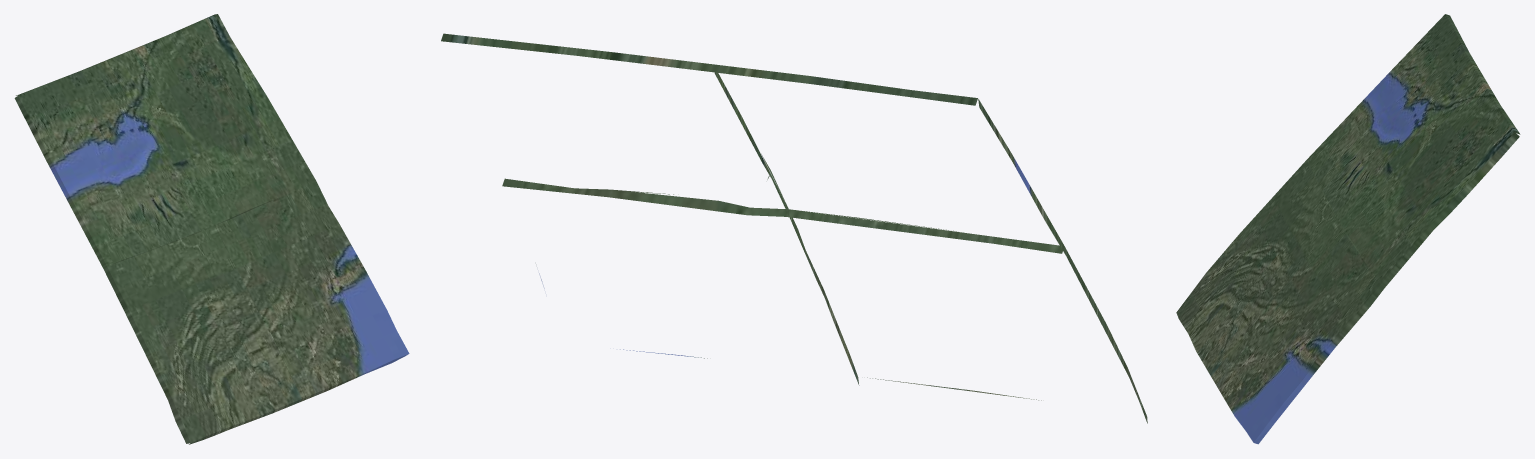
File: AJVsH2zHta3y8WaoxCachIuisGfSNEjpccxxy1GRXxEwZ74pOmB0I_w_3cZ7uk648vfD6qt1RkdEobHtgeyt8gIXPXwg4ERqU6d-67e3vdlqJDmZLSnopANBhidqcC9ZAIuOmyATWEd2.glb
3 views of the same model, side by side, from view 1: azimuth 30°, elevation 25°; view 2: azimuth 150°, elevation 25°; view 3: azimuth 270°, elevation 25° (orthographic). The views are drawn at different scales.
Bounding box in the file's own units: 557758 × 471867 × 527039.
Materials: 1 (1 with a texture image).
